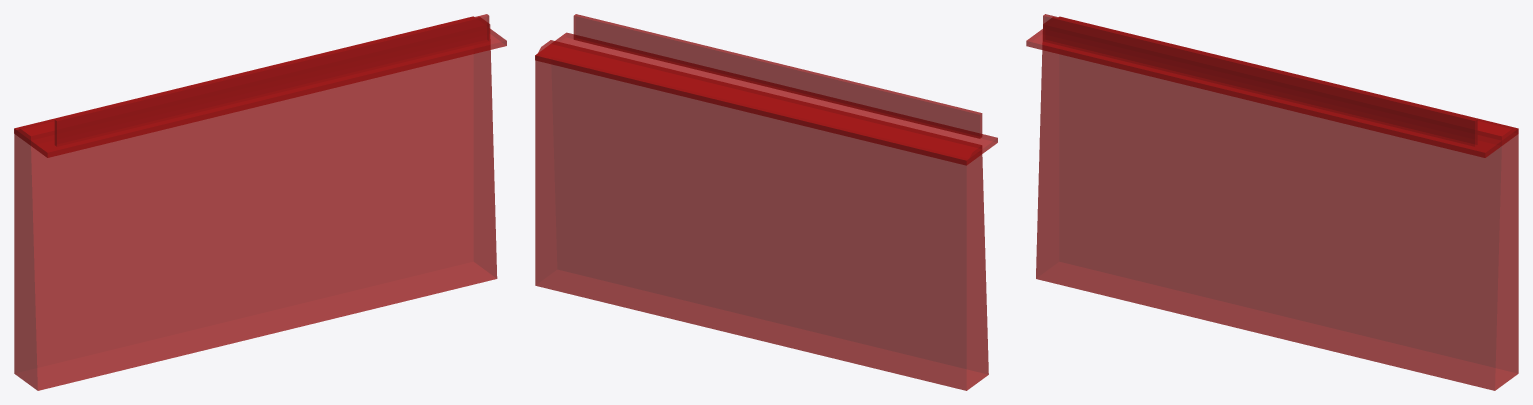
Rendered from SM_Env_Port_Drydock_Small_Flat_01_Collision.fbx.
3 views of the same model, side by side, from view 1: azimuth 30°, elevation 25°; view 2: azimuth 150°, elevation 25°; view 3: azimuth 330°, elevation 25° (orthographic). The views are drawn at different scales.
Visible parts, largest first — view 1: SM_Env_Port_Drydock_Small_Flat_01_Collision; view 2: SM_Env_Port_Drydock_Small_Flat_01_Collision; view 3: SM_Env_Port_Drydock_Small_Flat_01_Collision.
Boxes of the visible parts, box(x1,y1,x2,y2) form: SM_Env_Port_Drydock_Small_Flat_01_Collision: box(14, 14, 506, 390); SM_Env_Port_Drydock_Small_Flat_01_Collision: box(535, 14, 997, 390); SM_Env_Port_Drydock_Small_Flat_01_Collision: box(1026, 14, 1518, 390).
Bounding box in the file's own units: 1000 × 564 × 126.
